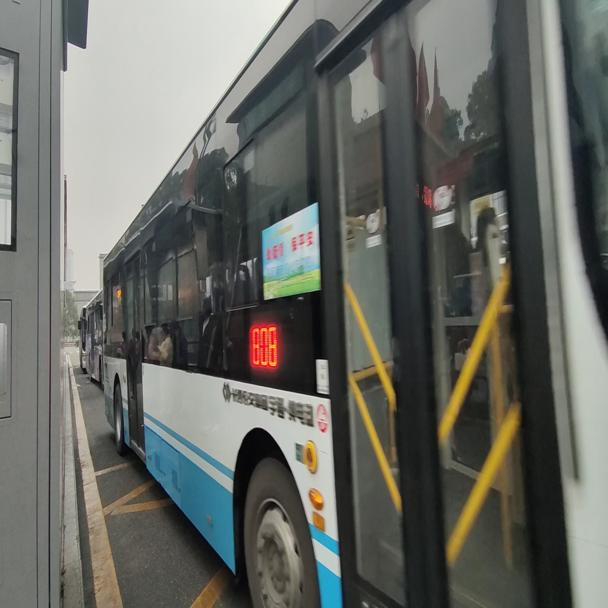screen: (243, 319, 281, 373)
